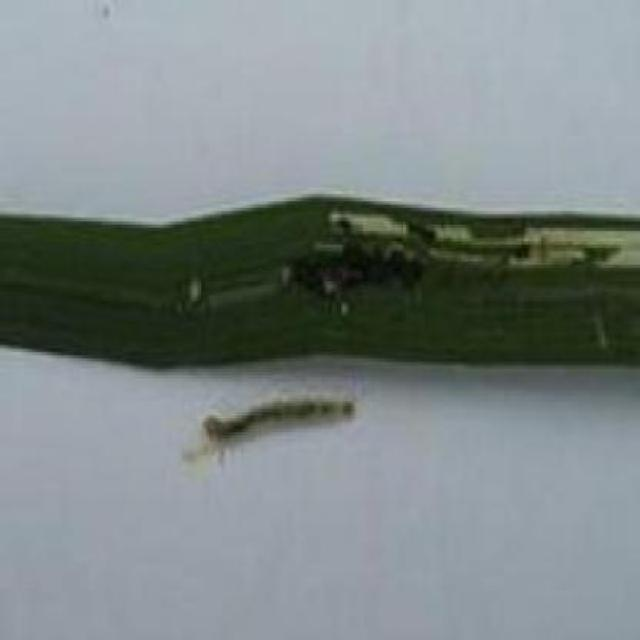leaf-folder: (184, 380, 364, 472)
